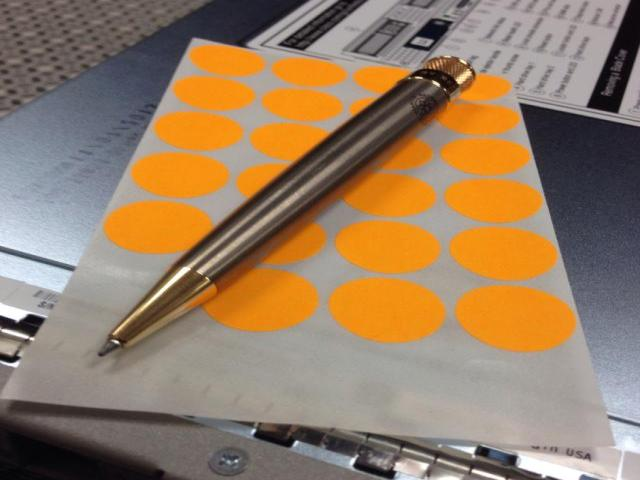PEN: (27, 12, 495, 412)
